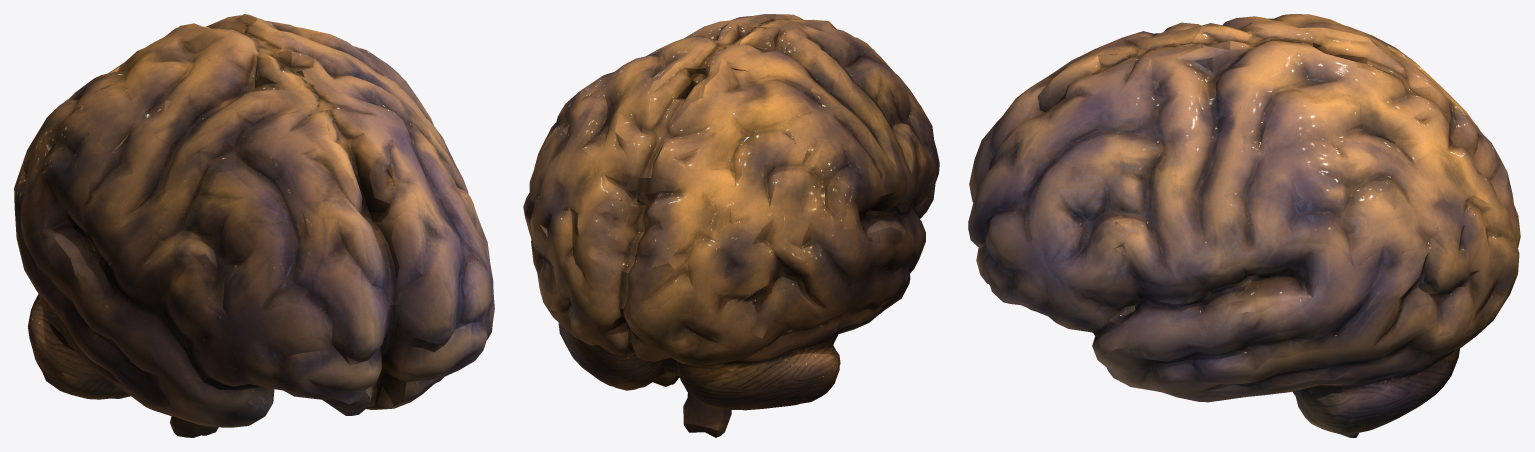
The model's file is otak.fbx.
3 views of the same model, side by side, from view 1: azimuth 30°, elevation 25°; view 2: azimuth 150°, elevation 25°; view 3: azimuth 270°, elevation 25° (orthographic). The views are drawn at different scales.
Parts seen in each view (by area): view 1: Brain_ModelLP_Brain_Model.001; view 2: Brain_ModelLP_Brain_Model.001; view 3: Brain_ModelLP_Brain_Model.001.
Part boxes in pixels (left/top/right/bottom): Brain_ModelLP_Brain_Model.001: left=14, top=14, right=494, bottom=437; Brain_ModelLP_Brain_Model.001: left=523, top=14, right=939, bottom=437; Brain_ModelLP_Brain_Model.001: left=968, top=14, right=1520, bottom=437.
Bounding box in the file's own units: 97.61 × 102 × 125.
